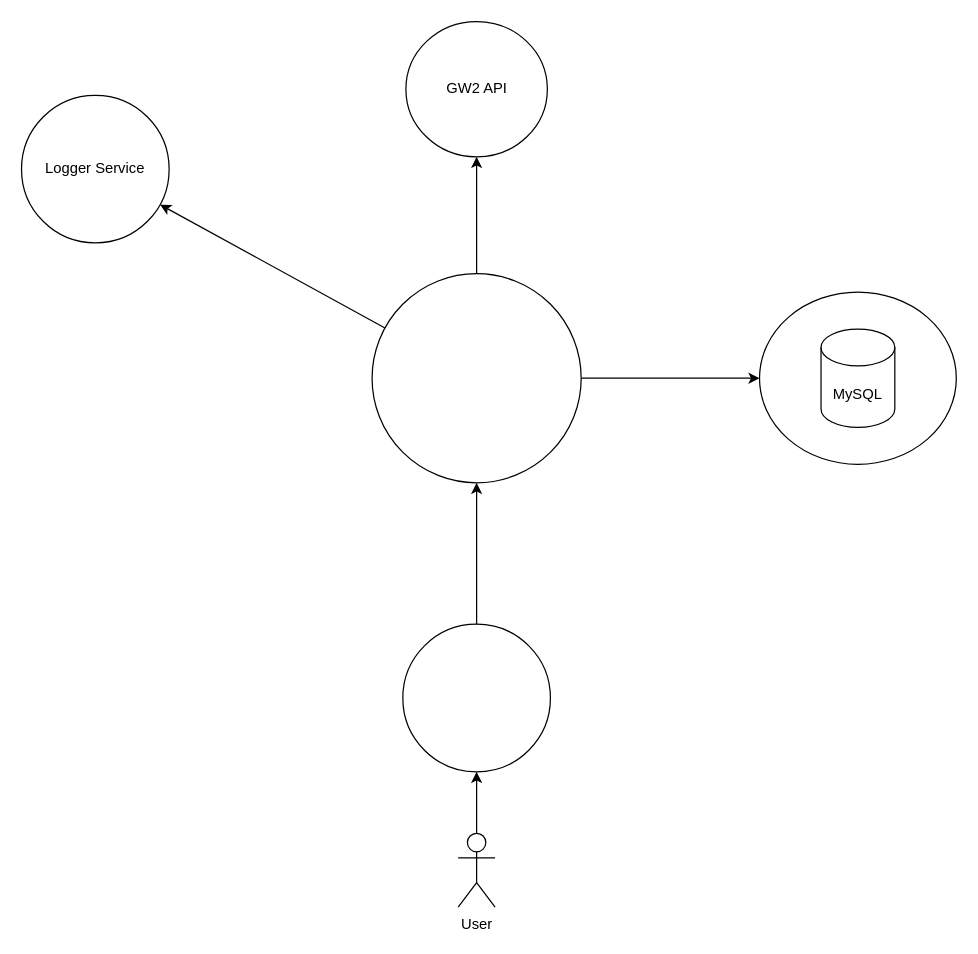
This 978x954 diagram has some shape labels left out. The box of each missing label's shape, as (x1, y1, x2, y2) in pixels:
Client (browser): (402, 623, 550, 772)
Ktor App: (371, 272, 581, 483)
